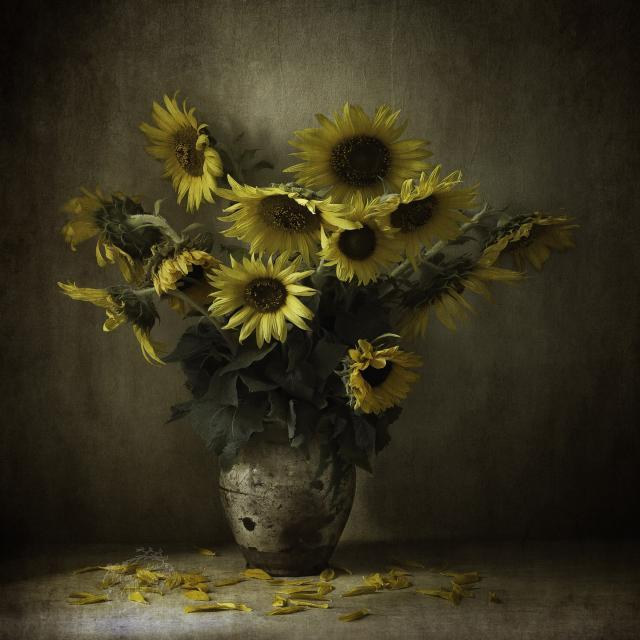sunflower: (282, 100, 434, 204), (381, 240, 528, 342), (215, 174, 361, 264), (375, 164, 482, 273), (60, 184, 172, 283), (204, 251, 318, 348), (138, 89, 224, 213), (58, 279, 170, 369), (316, 189, 405, 286), (479, 209, 579, 272), (346, 337, 423, 415), (153, 250, 227, 316)
